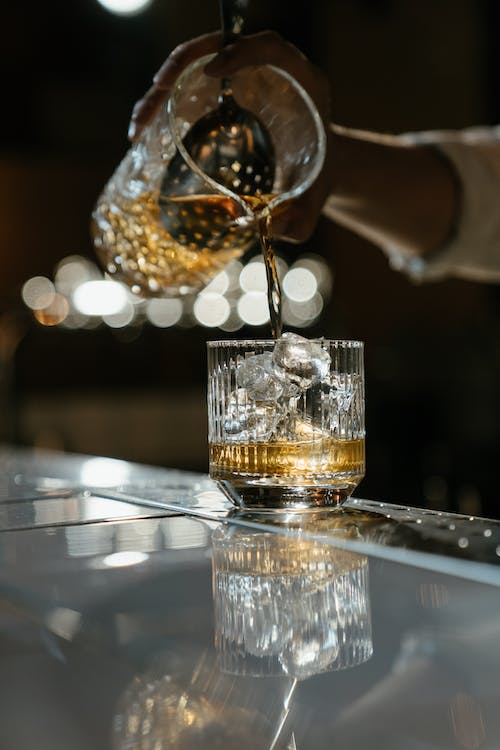alcohol: (88, 50, 328, 302), (203, 335, 369, 516)
